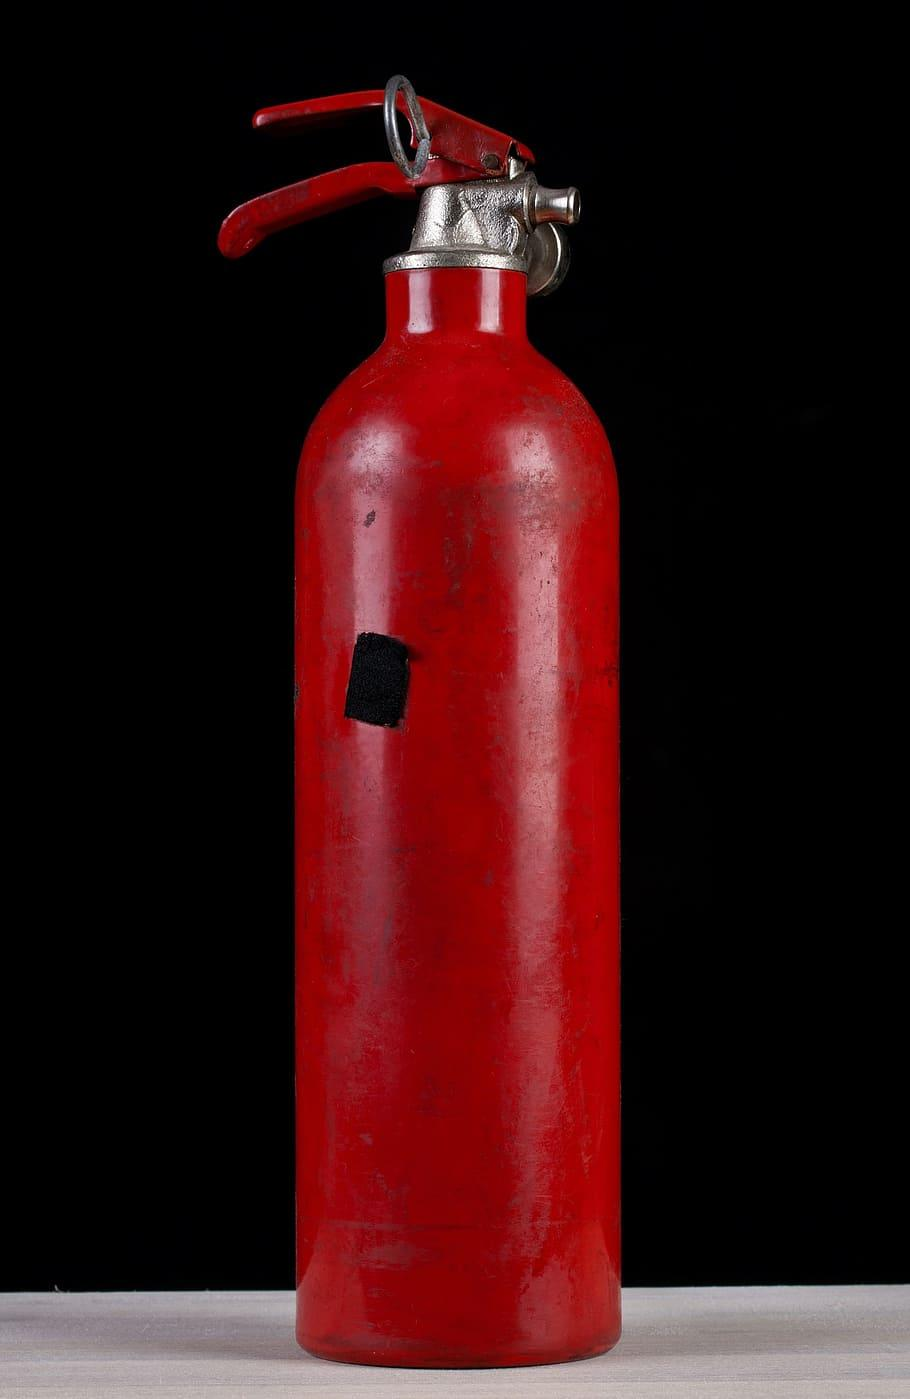Fire Extinguisher: (176, 80, 670, 1380)
